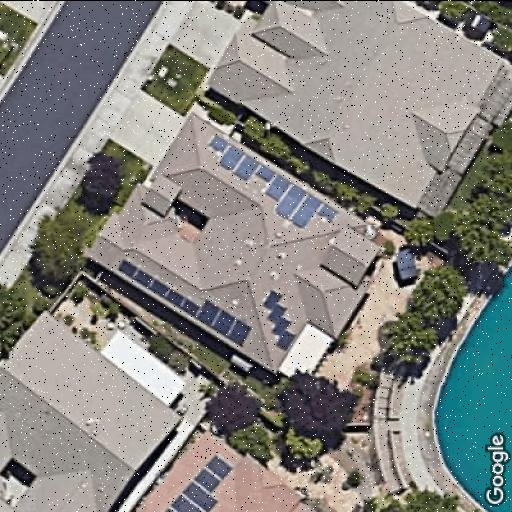solar-panel: (208, 132, 336, 232), (116, 256, 250, 347), (167, 454, 236, 512), (257, 286, 297, 348)
